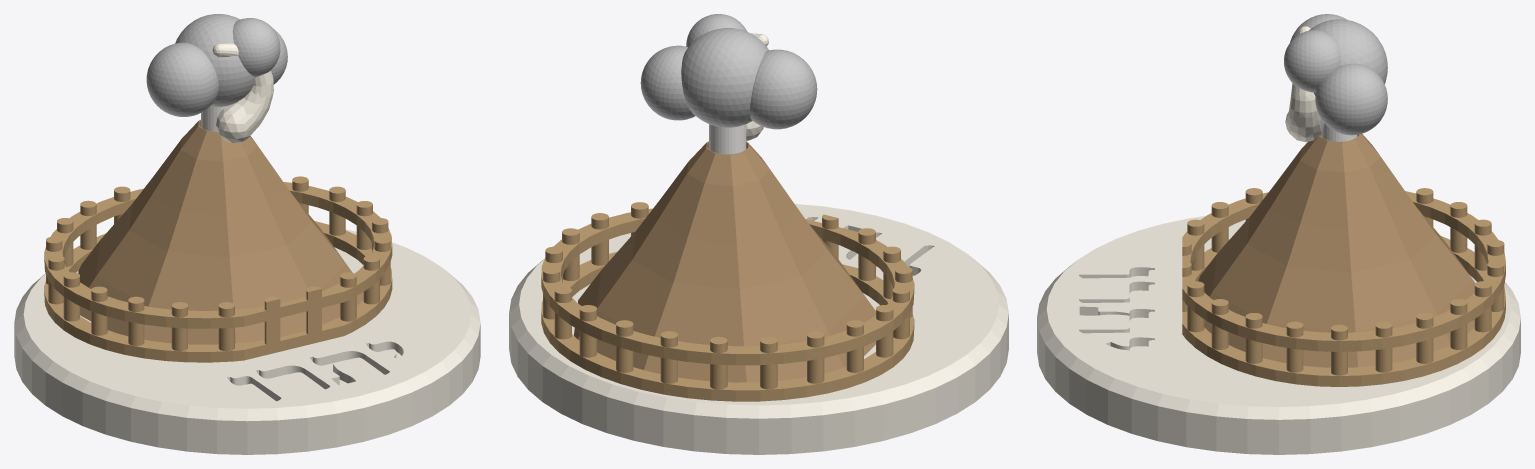
The model's file is yitro.glb.
3 renders of one model, left to right at view 1: azimuth 30°, elevation 25°; view 2: azimuth 150°, elevation 25°; view 3: azimuth 270°, elevation 25°, orthographic. The views are drawn at different scales.
Parts seen in each view (by area): view 1: stage, mountain, boundary, cloud, shofar; view 2: stage, mountain, boundary, cloud, post; view 3: stage, mountain, boundary, cloud, shofar.
Boxes of the visible parts, x1,y1,x2,y2 form: stage: (14,229,480,454); mountain: (78,119,363,344); boundary: (44,176,392,362); cloud: (146,14,287,116); shofar: (212,43,273,143); stage: (509,204,1008,454); mountain: (574,141,875,382); boundary: (541,202,914,401); cloud: (640,14,817,129); post: (709,124,746,154); stage: (1037,216,1520,454); mountain: (1198,134,1475,367); boundary: (1182,188,1505,386); cloud: (1284,14,1387,135); shofar: (1285,26,1324,142).
Size of the model in its own units: 40 by 30.1 by 40.
